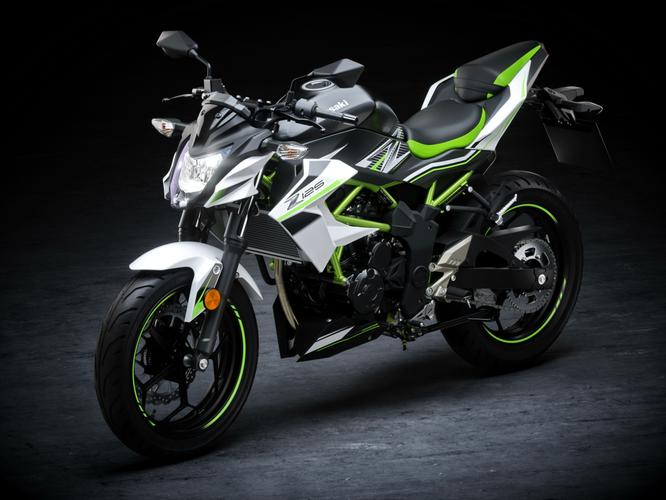摩托车: (90, 29, 616, 467)
